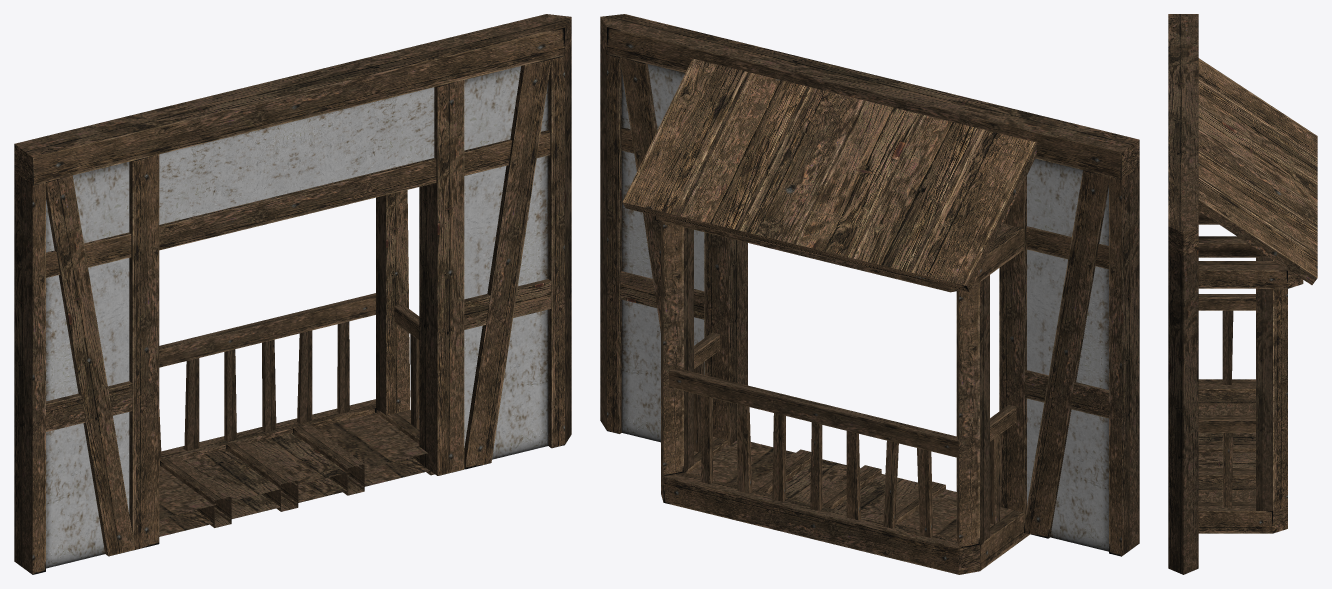
Rendered from timberWallBalcony_upper.dae.
3 renders of one model, left to right at view 1: azimuth 30°, elevation 25°; view 2: azimuth 150°, elevation 25°; view 3: azimuth 270°, elevation 25°, orthographic. The views are drawn at different scales.
Visible parts, largest first — view 1: TiimberWallbalcony; view 2: TiimberWallbalcony; view 3: TiimberWallbalcony.
Boxes of the visible parts, x1,y1,x2,y2 form: TiimberWallbalcony: (14,14,571,574); TiimberWallbalcony: (600,14,1139,574); TiimberWallbalcony: (1168,14,1317,574).
Bounding box in the file's own units: 4.12 × 3.05 × 1.19.
Materials: 1 (1 with a texture image).
